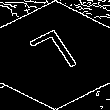L_SE: (25, 25, 85, 85)
